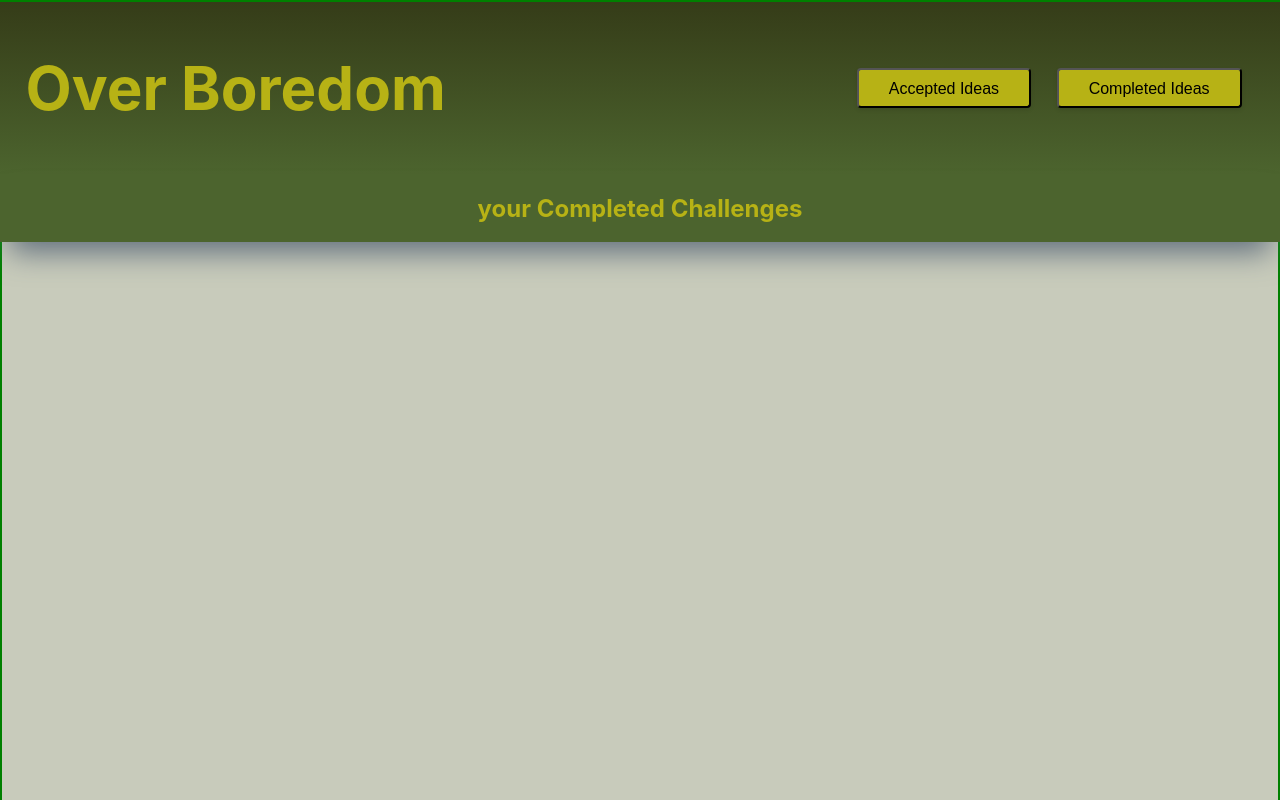
Scenario: Completed Page flow › should be able to click on the logo to go home
The image size is (1280, 800).
Click the heading with class "logo": (236, 88) [26,52,446,124]
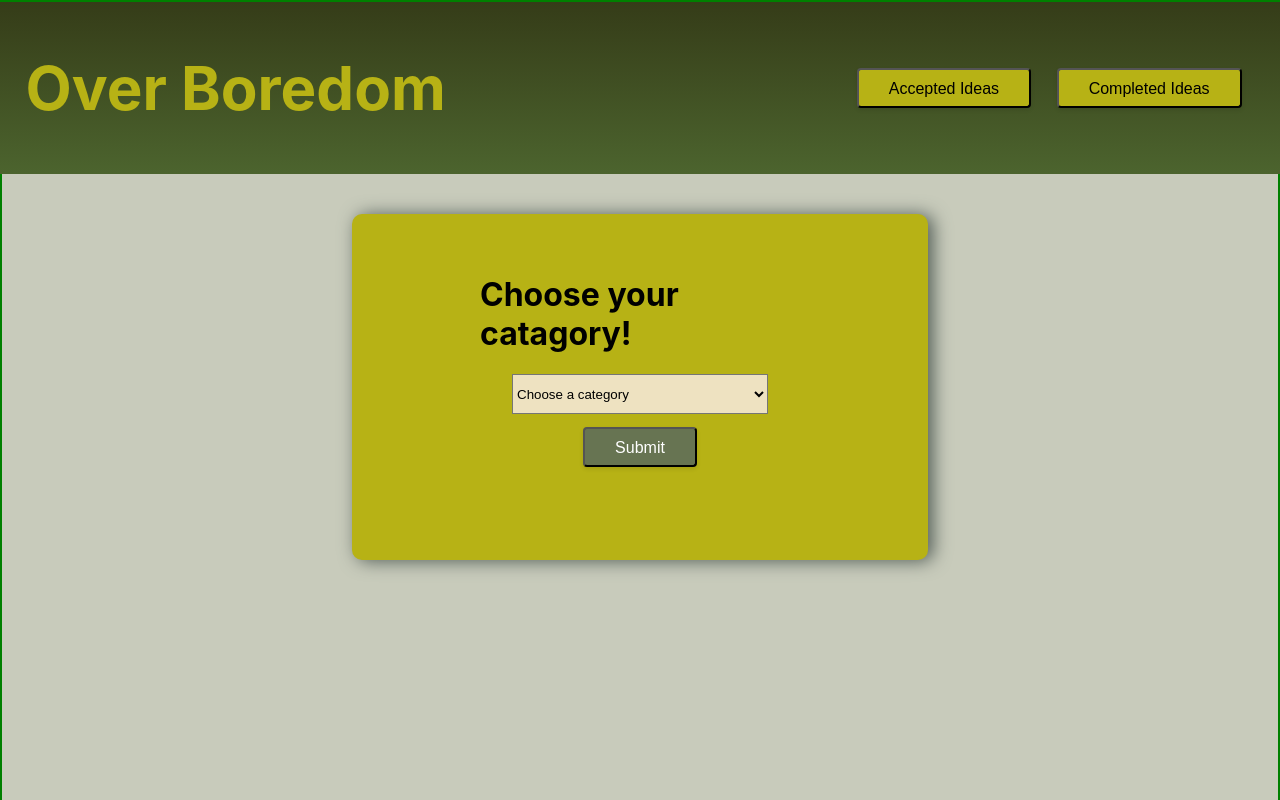
Result: the form with class "form" is shown at [352,214,928,561]
